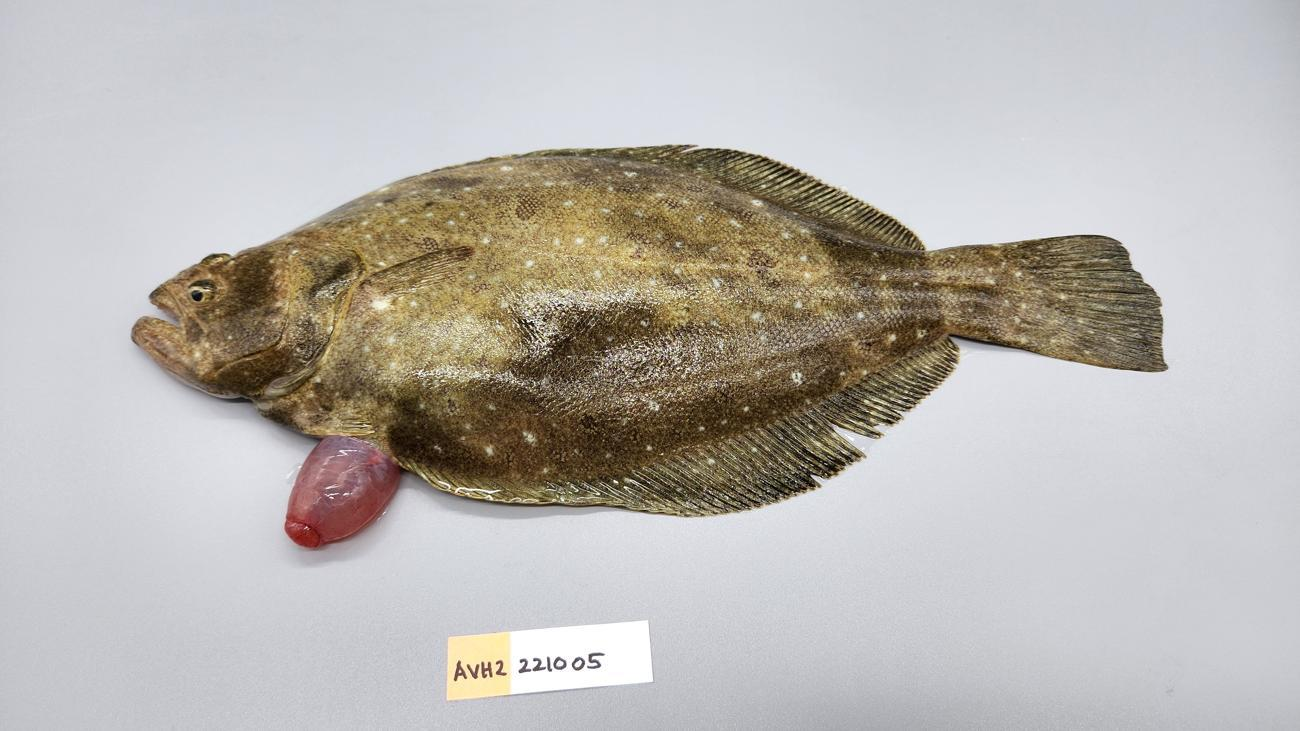VIDYH: (602, 323, 754, 422), (617, 210, 716, 293), (469, 387, 574, 462), (746, 246, 782, 291)
VIOUY: (126, 143, 1171, 552)
